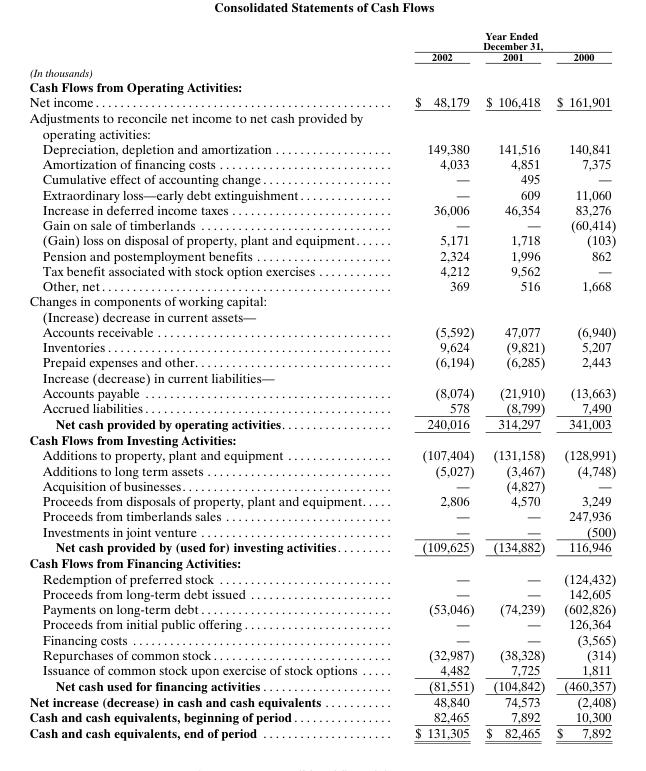table: (28, 28, 615, 740)
table column: (28, 28, 389, 740), (389, 28, 479, 740), (479, 28, 550, 740), (550, 28, 615, 740)
table column header: (28, 28, 615, 64)
table projected row header: (28, 109, 615, 140), (28, 554, 615, 570), (28, 78, 615, 93), (28, 293, 615, 308), (28, 308, 615, 323), (28, 369, 615, 384), (28, 431, 615, 446), (28, 64, 615, 78)
table row: (28, 109, 615, 140), (28, 28, 615, 50), (28, 93, 615, 109), (28, 155, 615, 171), (28, 216, 615, 232), (28, 277, 615, 293), (28, 323, 615, 339), (28, 384, 615, 400), (28, 415, 615, 431), (28, 446, 615, 462), (28, 492, 615, 508), (28, 538, 615, 554), (28, 554, 615, 570), (28, 585, 615, 601), (28, 646, 615, 662), (28, 677, 615, 693), (28, 693, 615, 709), (28, 724, 615, 740), (28, 78, 615, 93), (28, 140, 615, 155), (28, 171, 615, 186), (28, 186, 615, 201), (28, 201, 615, 216), (28, 232, 615, 247), (28, 247, 615, 262), (28, 262, 615, 277), (28, 293, 615, 308), (28, 308, 615, 323), (28, 339, 615, 354), (28, 354, 615, 369), (28, 369, 615, 384), (28, 400, 615, 415), (28, 431, 615, 446), (28, 462, 615, 477), (28, 477, 615, 492), (28, 508, 615, 523), (28, 523, 615, 538), (28, 570, 615, 585), (28, 601, 615, 616), (28, 616, 615, 631), (28, 631, 615, 646), (28, 662, 615, 677), (28, 709, 615, 724), (28, 50, 615, 64), (28, 64, 615, 78)
table spanning cell: (389, 28, 615, 50)
